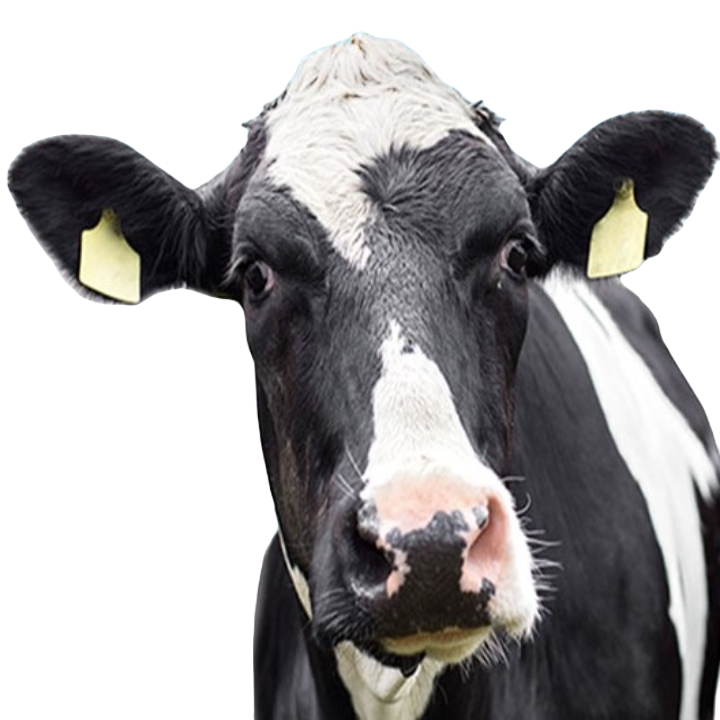Cow: (10, 35, 719, 719)
